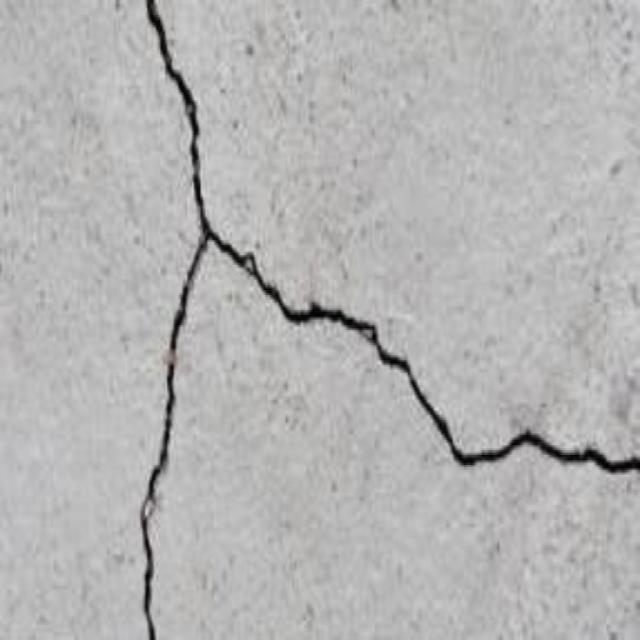crack: (213, 227, 639, 480), (138, 1, 214, 637)
